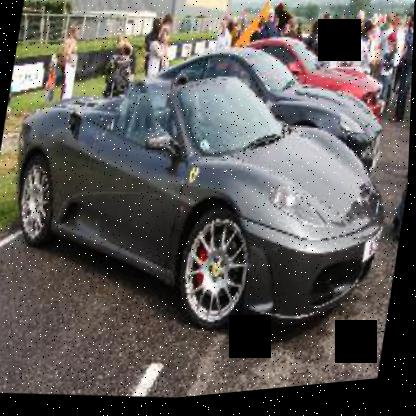not_emergency: (0, 50, 413, 382)
